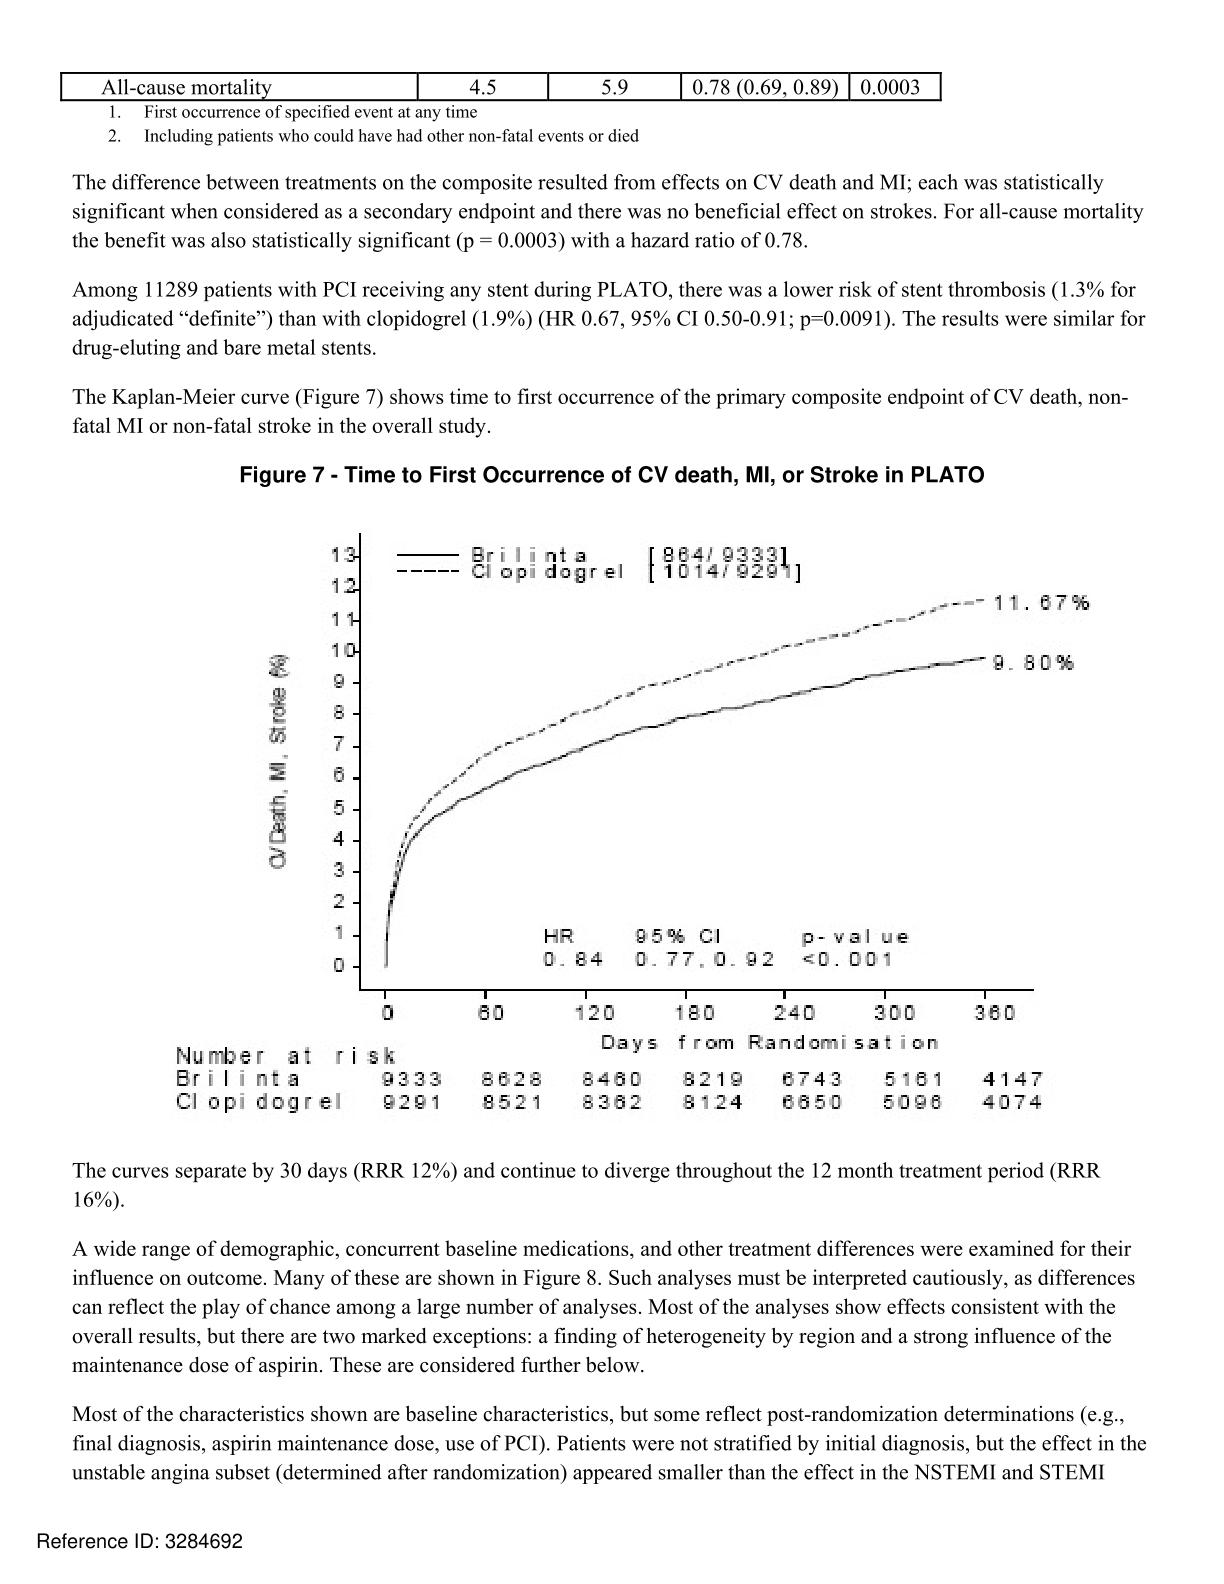full_lined: (59, 71, 942, 102)
nolines: (171, 1067, 1047, 1113)
